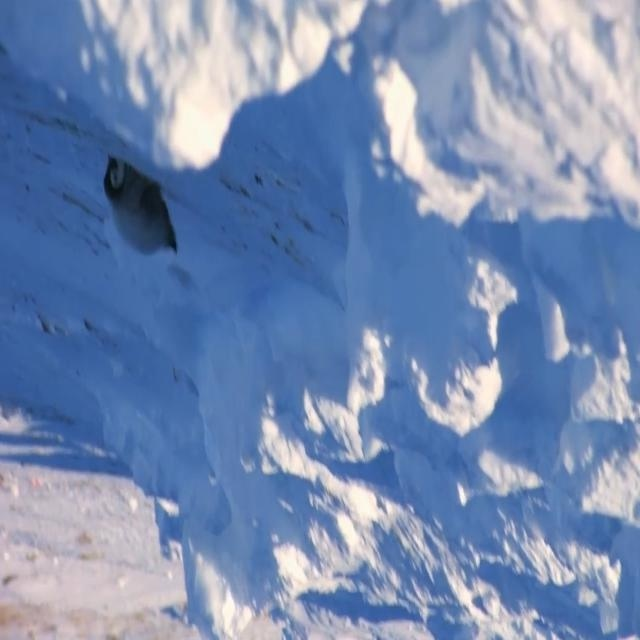penguin: (104, 155, 179, 258)
